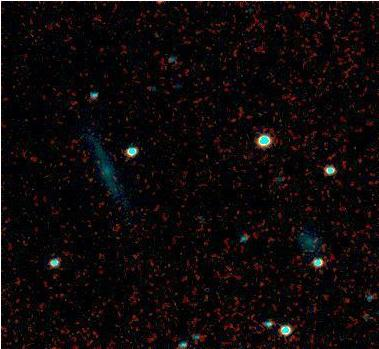star: (75, 166, 105, 196)
